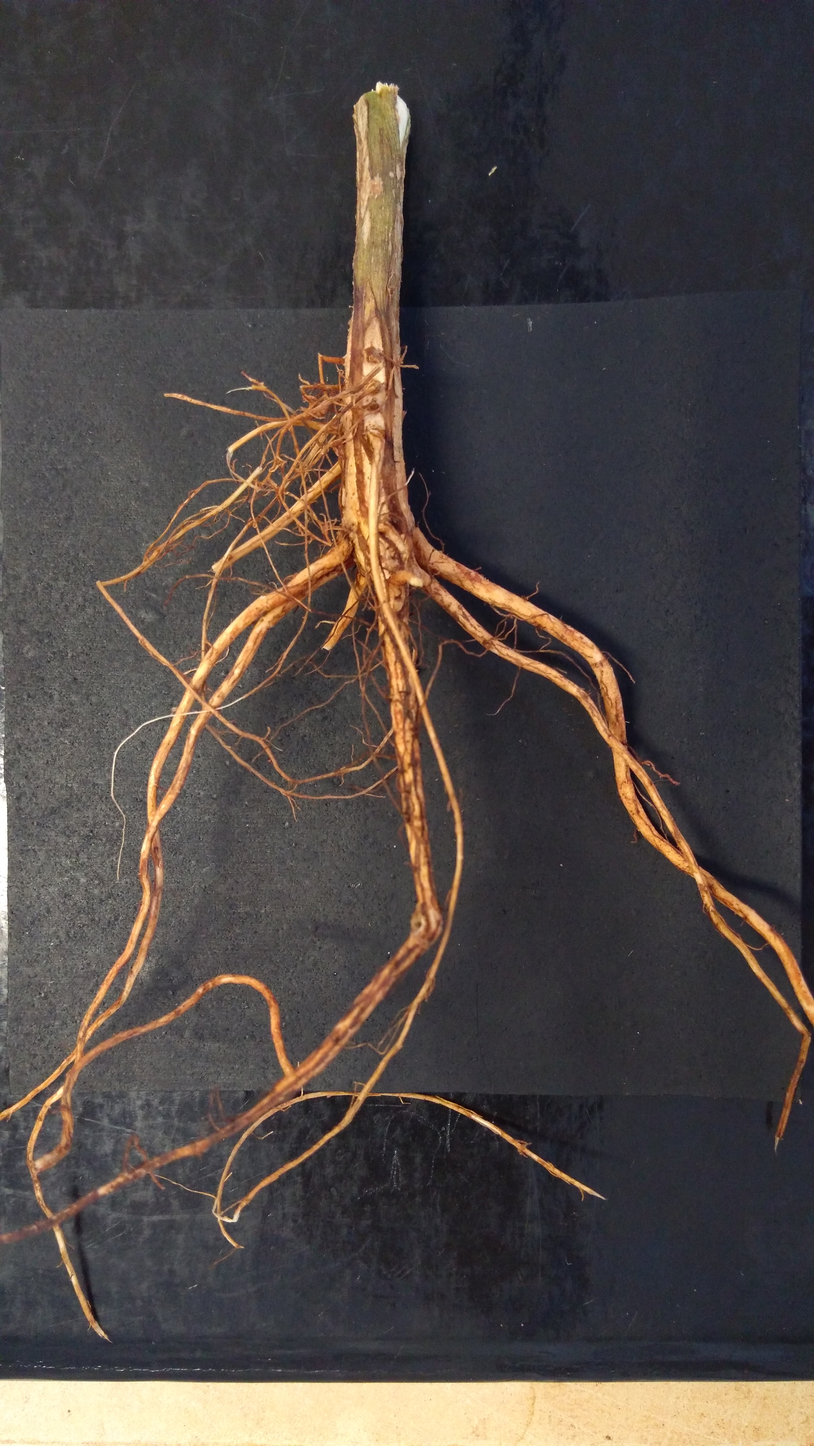nodule: (378, 527, 409, 580), (385, 582, 407, 612), (306, 400, 328, 419), (170, 706, 177, 713)
